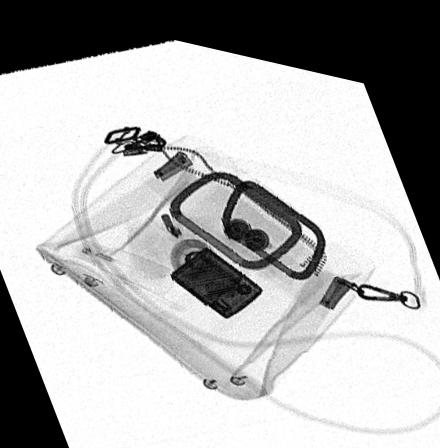Lighter: (170, 237, 264, 309)
